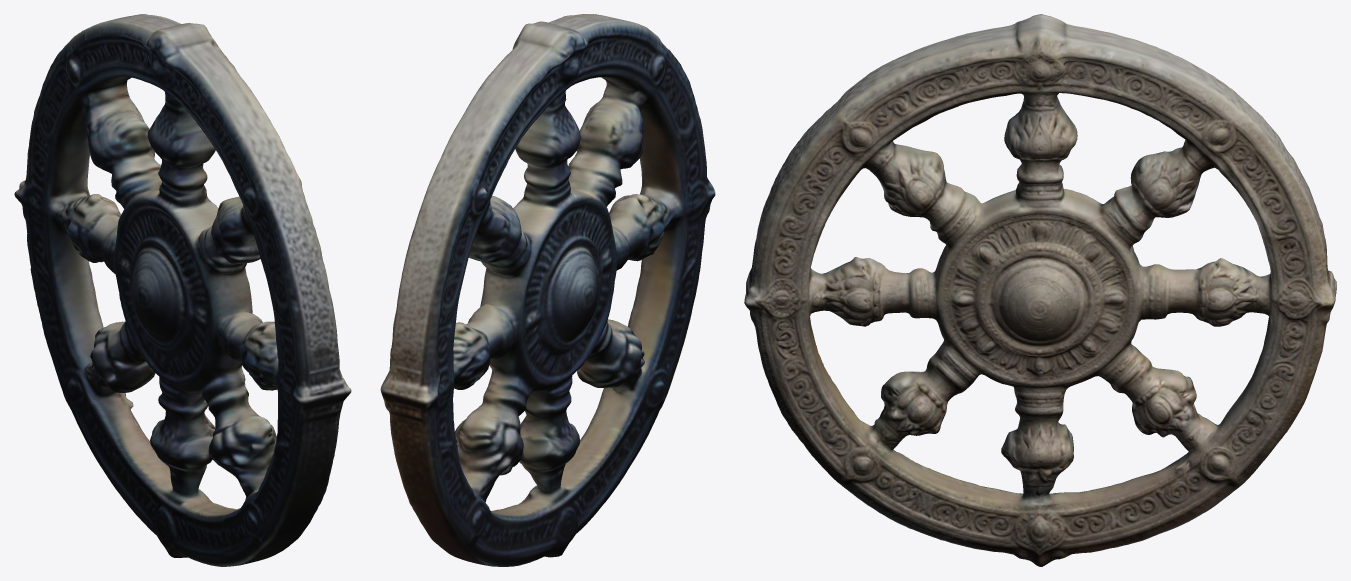
File: dharma_wheel_3d.glb
3 renders of one model, left to right at view 1: azimuth 30°, elevation 25°; view 2: azimuth 150°, elevation 25°; view 3: azimuth 270°, elevation 25°, orthographic. The views are drawn at different scales.
Parts seen in each view (by area): view 1: tripo_node_de194919-24e5-4401-b02d-38ccae86108a; view 2: tripo_node_de194919-24e5-4401-b02d-38ccae86108a; view 3: tripo_node_de194919-24e5-4401-b02d-38ccae86108a.
Part boxes in pixels (left/top/right/bottom): tripo_node_de194919-24e5-4401-b02d-38ccae86108a: left=14, top=14, right=351, bottom=566; tripo_node_de194919-24e5-4401-b02d-38ccae86108a: left=380, top=14, right=715, bottom=566; tripo_node_de194919-24e5-4401-b02d-38ccae86108a: left=744, top=14, right=1336, bottom=566.
Size of the model in its own units: 0.1299 by 0.7717 by 0.7668.
Materials: 1 (1 with a texture image).
